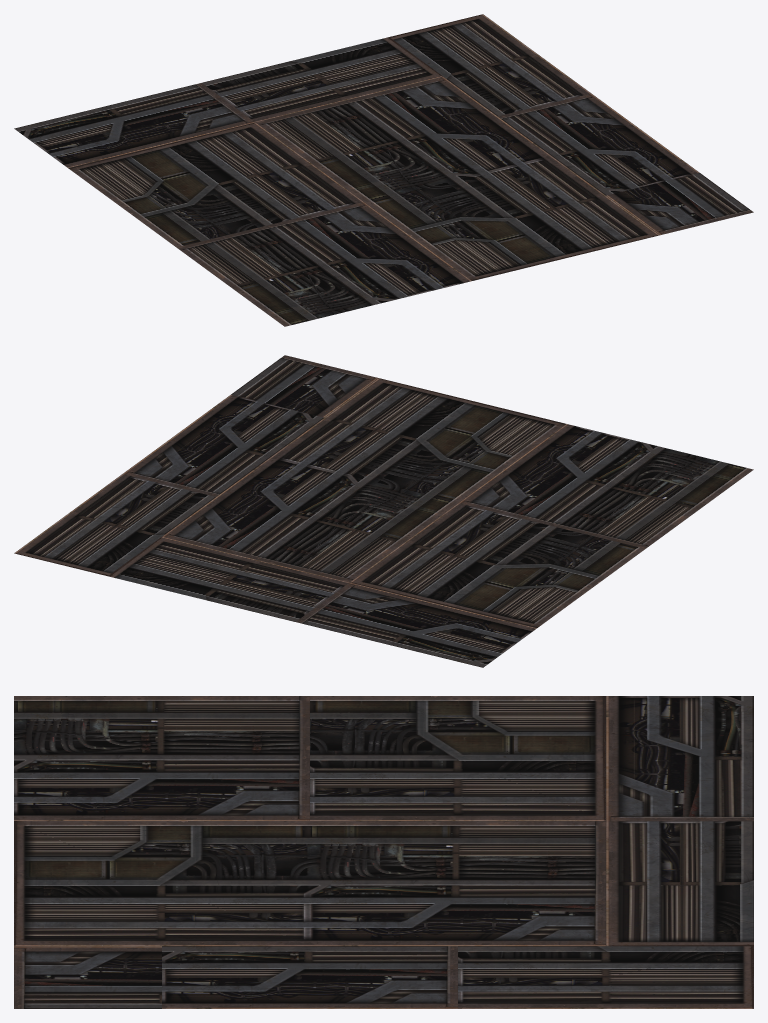
Rendered from Ceiling_A_08.fbx.
The picture shows the model from 3 angles, top to bottom: view 1: azimuth 30°, elevation 25°; view 2: azimuth 150°, elevation 25°; view 3: azimuth 270°, elevation 25°; orthographic projection. The views are drawn at different scales.
Parts seen in each view (by area): view 1: Ceiling_A_08; view 2: Ceiling_A_08; view 3: Ceiling_A_08.
Part boxes in pixels (bbox=[...]): Ceiling_A_08: bbox=[14, 14, 753, 326]; Ceiling_A_08: bbox=[14, 355, 753, 667]; Ceiling_A_08: bbox=[14, 696, 753, 1008].
Size of the model in its own units: 500 by 0.00224 by 500.
1 material, 1 textured.
